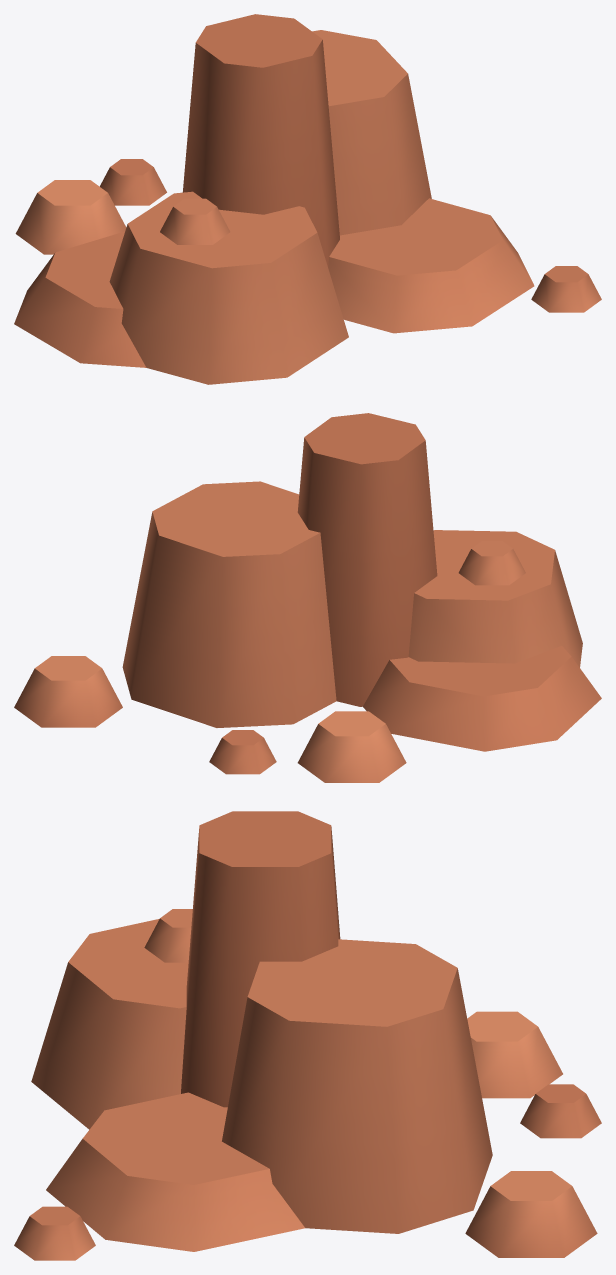
The model's file is forest_stones.obj.
The picture shows the model from 3 angles, top to bottom: view 1: azimuth 30°, elevation 25°; view 2: azimuth 150°, elevation 25°; view 3: azimuth 270°, elevation 25°; orthographic projection. The views are drawn at different scales.
Visible parts, largest first — view 1: stones; view 2: stones; view 3: stones.
Part boxes in pixels (<box>): stones: <box>14,14,601,384</box>; stones: <box>14,413,601,782</box>; stones: <box>14,811,601,1260</box>.
Bounding box in the file's own units: 0.904 × 0.4539 × 0.8521.
Materials: 1 (1 with a texture image).
